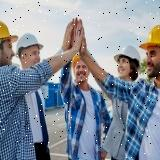Helmet: (14, 31, 44, 58), (112, 44, 142, 66), (139, 24, 160, 50), (0, 19, 18, 43), (72, 50, 83, 72)
